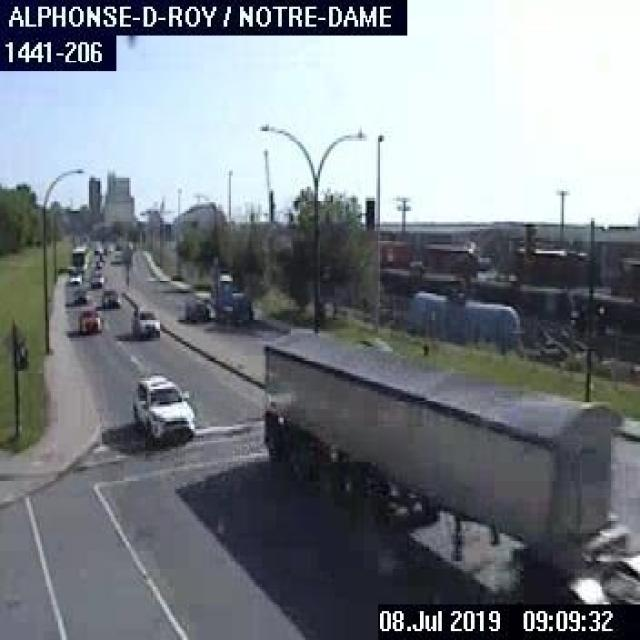bus: (68, 245, 89, 272)
vehicle: (258, 327, 638, 602), (127, 371, 198, 442), (215, 274, 251, 324), (129, 298, 162, 336), (180, 290, 215, 321), (76, 309, 104, 333), (99, 284, 120, 306), (70, 283, 88, 303), (88, 268, 104, 286), (68, 270, 81, 282)
